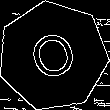O_S: (24, 24, 83, 88)
